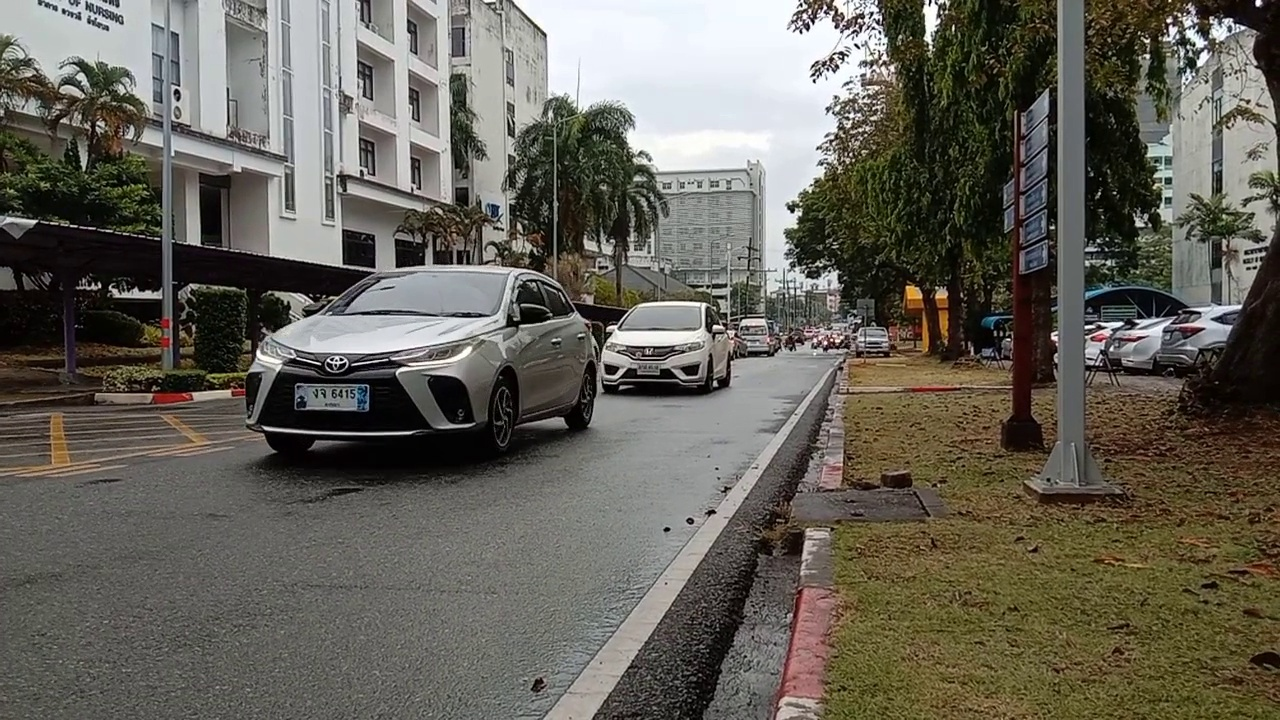License Plate: (295, 384, 369, 410)
